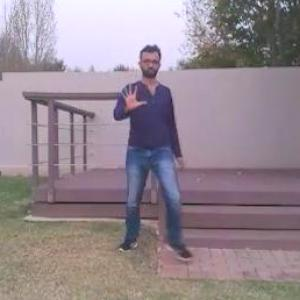follow_hand: (116, 77, 150, 114)
